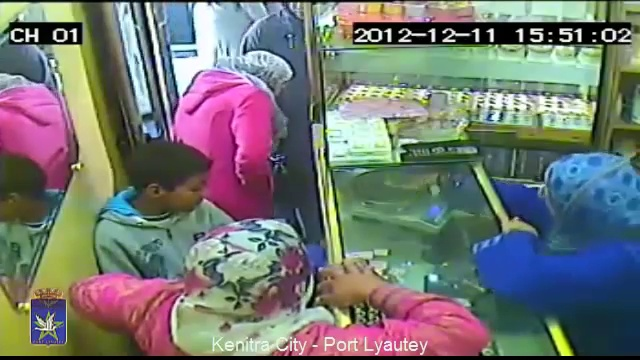face: (158, 165, 204, 212)
